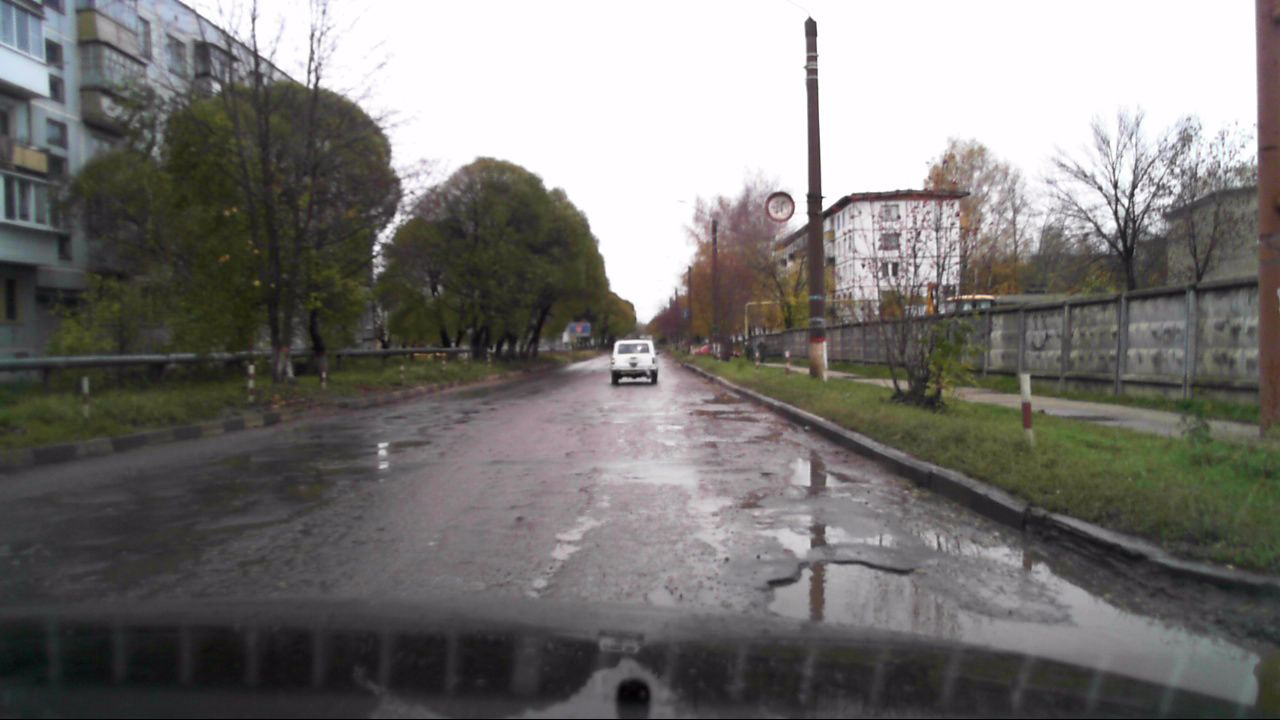speed_warning_40: (765, 191, 796, 222)
